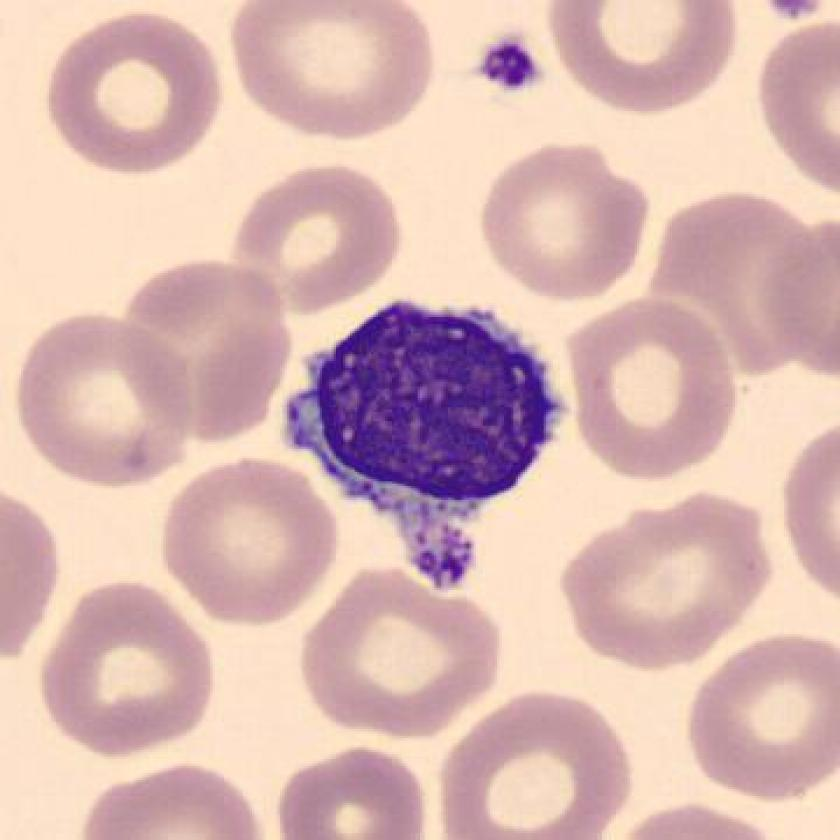lymphocyte: (265, 277, 584, 608)
